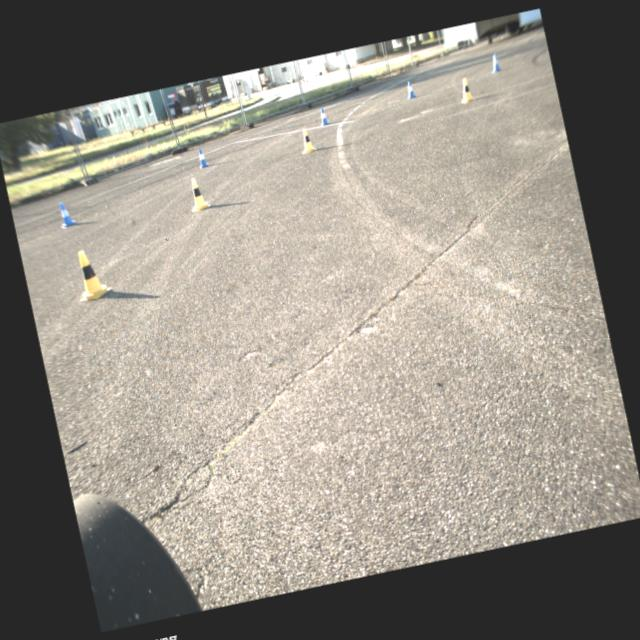blue_cone: (56, 199, 76, 229), (486, 52, 502, 73), (402, 78, 417, 100), (195, 146, 210, 168), (316, 105, 329, 126)
yellow_cone: (70, 246, 112, 302), (186, 176, 210, 212), (296, 126, 316, 155), (455, 76, 475, 104)
